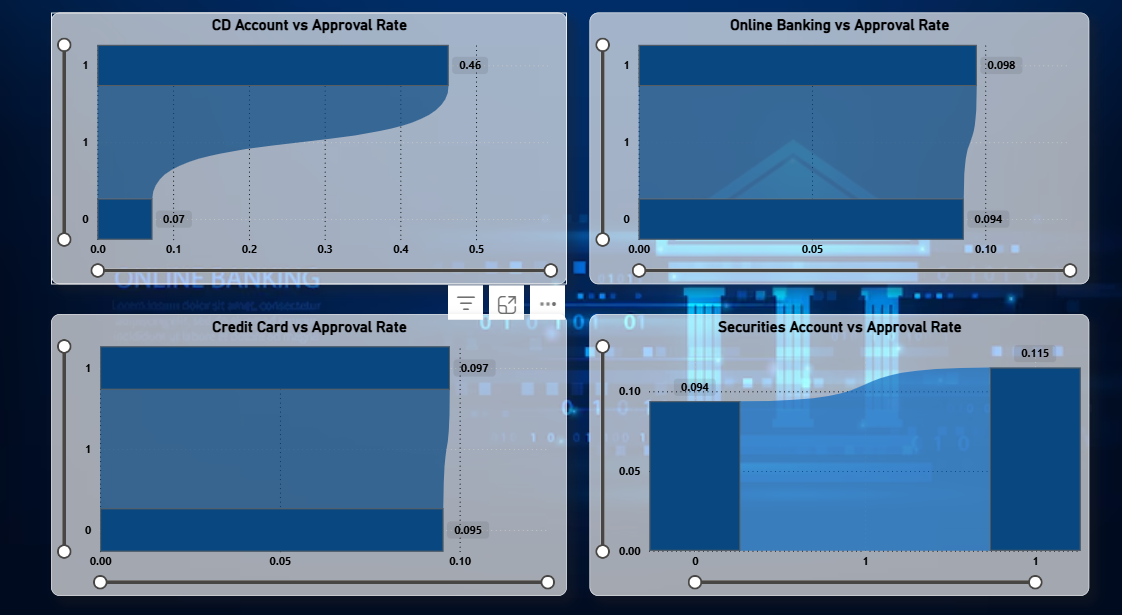

Layout of this report page (visuals, bound fields, positions):
{"tool":"powerbi","page":{"name":"Page 3","canvas":[1280,720],"ordinal":2},"visuals":[{"type":"barChart","title":"CD Account vs Approval Rate","fields":{"Y":["Data.Approval Rate"],"Category":["Data.CD Account"]},"box":[66.7,25,573.3,301.7],"z":0},{"type":"barChart","title":"Credit Card vs Approval Rate","fields":{"Y":["Data.Approval Rate"],"Category":["Data.CreditCard"]},"box":[66.7,360,573.3,313.3],"z":1000},{"type":"barChart","title":"Online Banking vs Approval Rate","fields":{"Y":["Data.Approval Rate"],"Category":["Data.Online"]},"box":[665,25,555,301.7],"z":2000},{"type":"columnChart","title":"Securities Account vs Approval Rate","fields":{"Y":["Data.Approval Rate"],"Category":["Data.Securities Account"]},"box":[665,360,555,313.3],"z":3000}]}

Visuals, with their boxes on the page's 1280x720 design canvas (x1, y1, x2, y2). These are canvas units, not pixel positions in the 1122x615 screenshot, which may show the page scaled, cropped or inside an application window:
"CD Account vs Approval Rate" barChart: <bbox>67, 25, 640, 327</bbox>
"Credit Card vs Approval Rate" barChart: <bbox>67, 360, 640, 673</bbox>
"Online Banking vs Approval Rate" barChart: <bbox>665, 25, 1220, 327</bbox>
"Securities Account vs Approval Rate" columnChart: <bbox>665, 360, 1220, 673</bbox>
